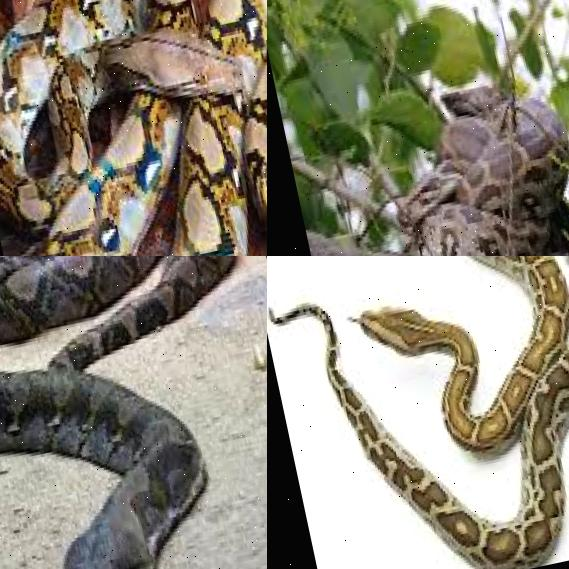snake: (267, 256, 569, 569), (0, 256, 267, 569), (0, 0, 267, 256), (358, 18, 569, 256)
